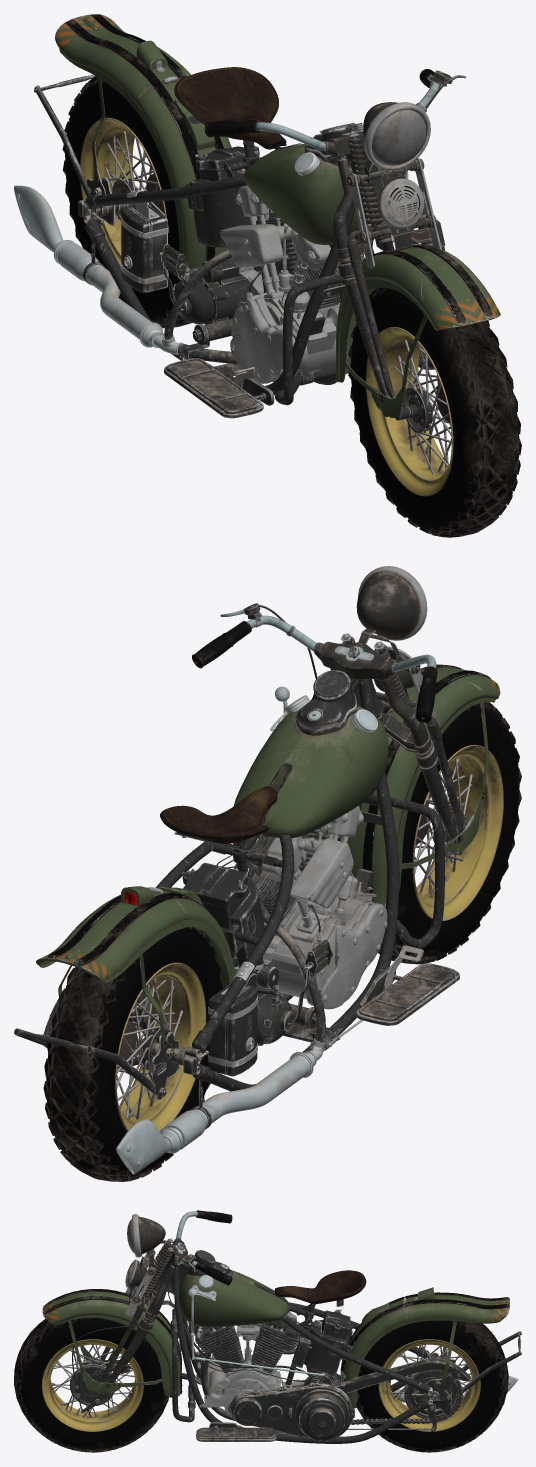
File: wlbobber.glb
3 renders of one model, top to bottom at view 1: azimuth 30°, elevation 25°; view 2: azimuth 150°, elevation 25°; view 3: azimuth 270°, elevation 25°, orthographic. The views are drawn at different scales.
Parts seen in each view (by area): view 1: Plane.019, Plane.017, Gas_Tank.003, Cylinder.118, Cylinder.222, Plane, Cylinder.123, Cylinder.122, Plane.023, Cube.019, Echaust.003, Cylinder.072 (+38 smaller); view 2: Plane.017, Gas_Tank.003, Plane.019, Cylinder.118, Cylinder.072, Cylinder.222, Cylinder.122, Plane.023, Headlight.003, Echaust.003, Cube.019, NurbsPath.008 (+30 smaller); view 3: Plane.019, Plane.017, Circle.001, Gas_Tank.003, Cylinder.118, Cylinder.222, NurbsPath.008, Cylinder.072, Cylinder.122, Plane, Plane.059, Cube.019 (+38 smaller).
Part boxes in pixels (<box>): Plane.019: <box>348,287,521,537</box>; Plane.017: <box>62,76,192,328</box>; Gas_Tank.003: <box>244,143,382,244</box>; Cylinder.118: <box>365,327,453,496</box>; Cylinder.222: <box>335,247,500,382</box>; Plane: <box>176,67,286,147</box>; Cylinder.123: <box>137,79,231,279</box>; Cylinder.122: <box>55,14,190,102</box>; Plane.023: <box>230,297,307,383</box>; Cube.019: <box>164,352,434,418</box>; Echaust.003: <box>53,240,164,347</box>; Cylinder.072: <box>80,117,166,266</box>; Plane.017: <box>43,927,223,1181</box>; Gas_Tank.003: <box>234,705,388,838</box>; Plane.019: <box>377,702,521,964</box>; Cylinder.118: <box>412,744,503,921</box>; Cylinder.072: <box>115,962,206,1130</box>; Cylinder.222: <box>347,667,500,906</box>; Cylinder.122: <box>36,891,185,980</box>; Plane.023: <box>306,901,387,1009</box>; Headlight.003: <box>356,566,427,640</box>; Echaust.003: <box>159,1051,316,1153</box>; Cube.019: <box>356,963,459,1025</box>; NurbsPath.008: <box>128,772,399,1091</box>; Plane.019: <box>14,1318,169,1452</box>; Plane.017: <box>356,1320,508,1452</box>; Circle.001: <box>231,1385,352,1440</box>; Gas_Tank.003: <box>178,1270,289,1327</box>; Cylinder.118: <box>42,1339,143,1431</box>; Cylinder.222: <box>42,1291,180,1397</box>; NurbsPath.008: <box>174,1294,419,1443</box>; Cylinder.072: <box>378,1339,480,1431</box>; Cylinder.122: <box>405,1294,509,1322</box>; Plane: <box>275,1270,365,1303</box>; Plane.059: <box>331,1358,471,1393</box>; Cube.019: <box>196,1374,276,1441</box>.
Size of the model in its own units: 0.7222 by 1.15 by 2.26.
Materials: 9 (8 with a texture image).
